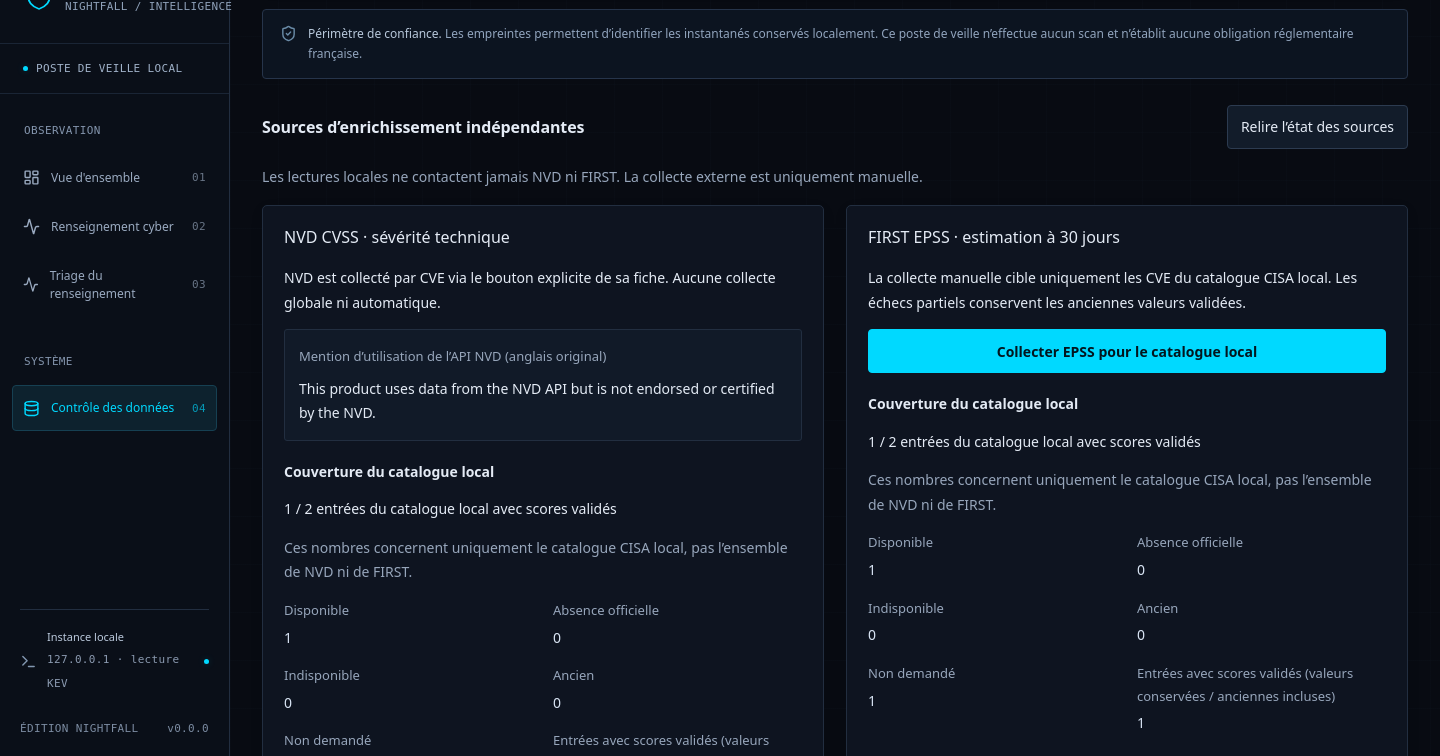
keeps verified EPSS read-back when a concurrent CISA revision read finishes late, then accepts a new manual refresh
The width and height of the screenshot is (1440, 756).
(page scrolled)
Click the button with test id "epss-action": x=1127, y=351 [868,329,1386,373]
(page scrolled)
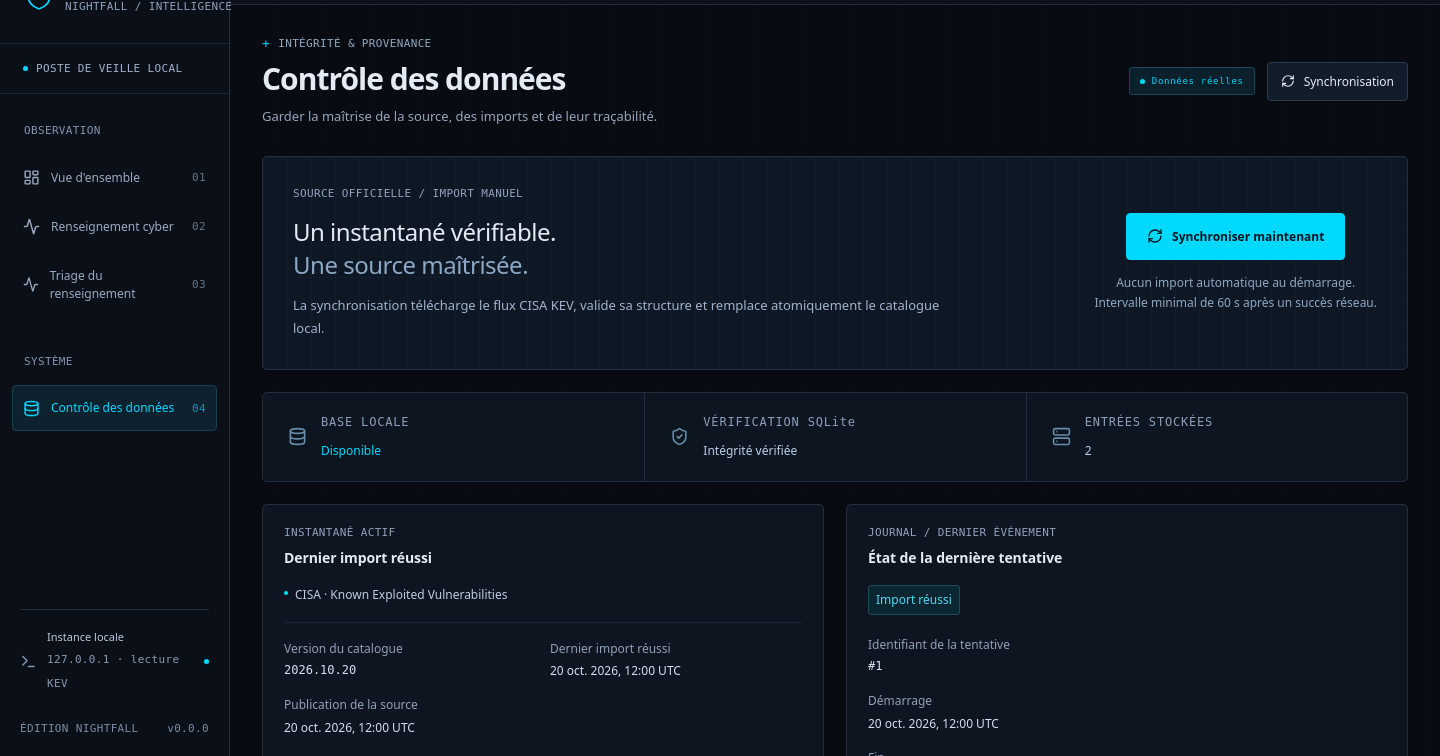
Click the button "Synchroniser maintenant": x=1236, y=236 [1126,213,1345,260]
(page scrolled)
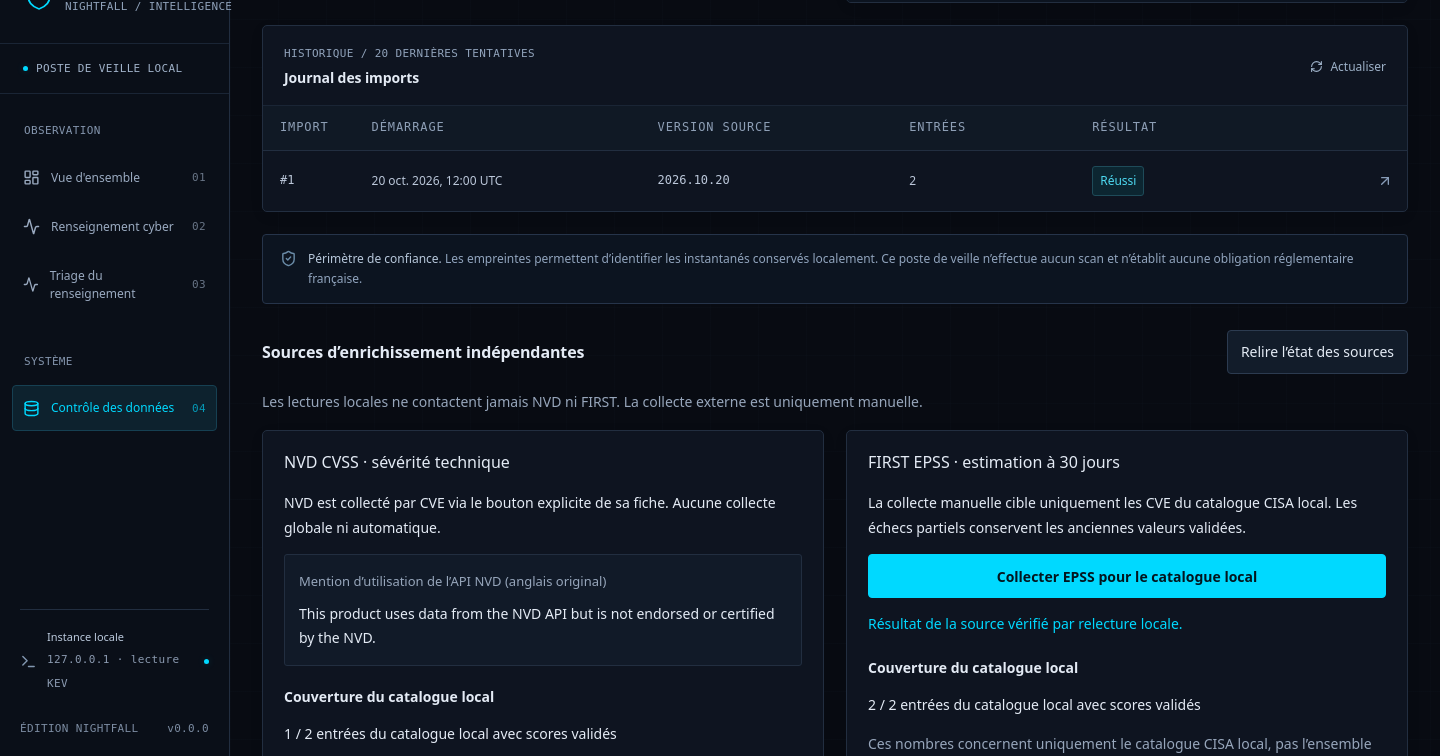
Check: the text "Résultat de la source vérifié par relecture locale." is shown, box [868,614,1183,633]
Check: the text with test id "epss-coverage" shows "2 / 2", box [868,695,1201,714]
Check: the button "Relire l’état des sources" is enabled
Click the button "Relire l’état des sources": x=1317, y=352 [1227,330,1408,374]
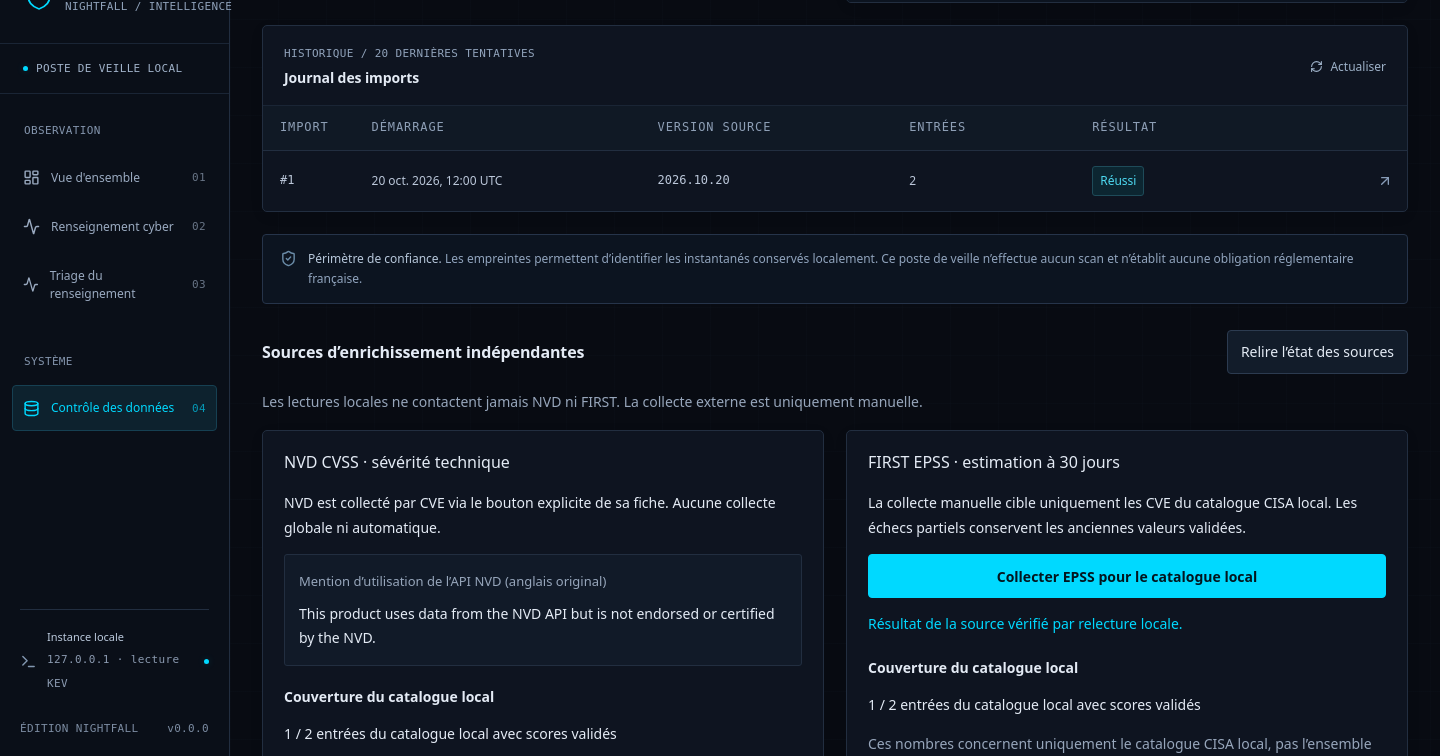
Check: the text with test id "nvd-coverage" shows "1 / 2", box [284,724,617,743]
Check: the text with test id "epss-coverage" shows "1 / 2", box [868,695,1201,714]
